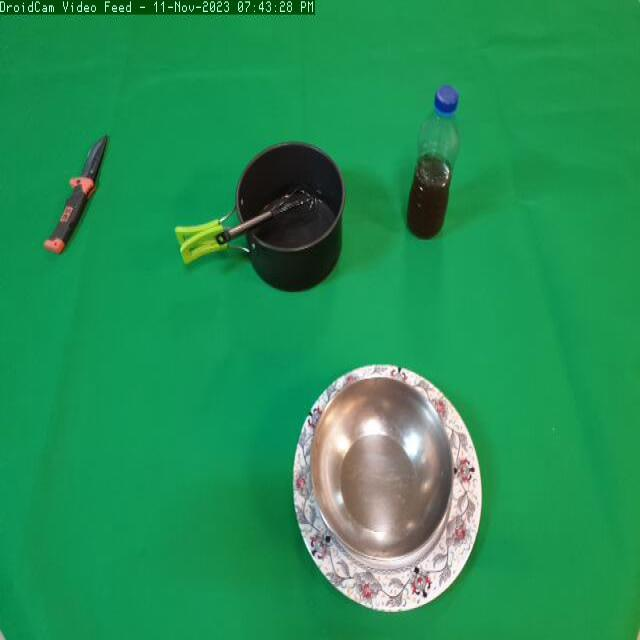bowl: (308, 376, 457, 566)
fullbottle: (403, 77, 468, 251)
knife: (43, 126, 114, 268)
plate: (294, 359, 484, 615)
pot: (174, 136, 354, 305)
whisk: (217, 178, 327, 246)
